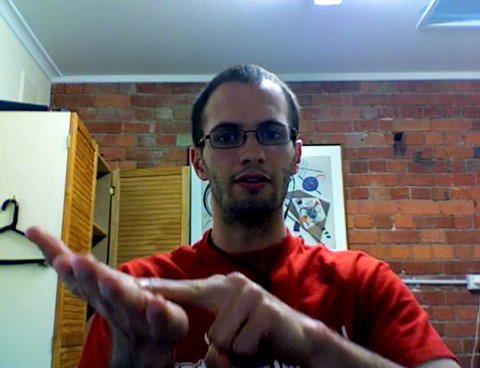J: (19, 218, 329, 365)
